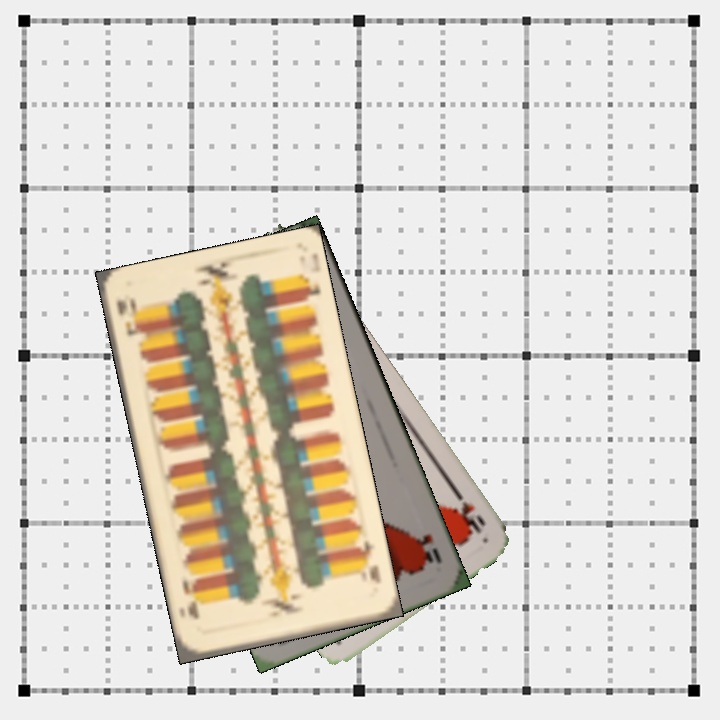E10: (352, 536, 384, 586), (112, 293, 143, 340)
HO: (449, 485, 488, 536), (413, 530, 444, 567)
